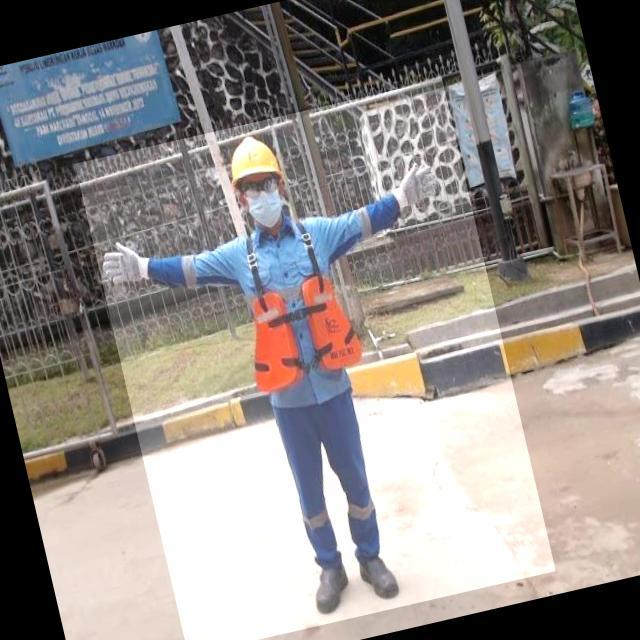Gloves: (383, 154, 451, 225), (98, 239, 159, 295)
Helmet: (215, 119, 291, 196)
Person: (83, 99, 469, 636)
Safety Boot: (303, 554, 362, 622), (354, 545, 408, 610)
Safety Vest: (235, 268, 367, 393)
